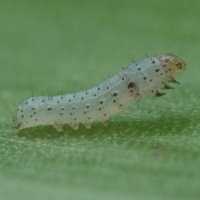insect: (15, 54, 185, 130)
